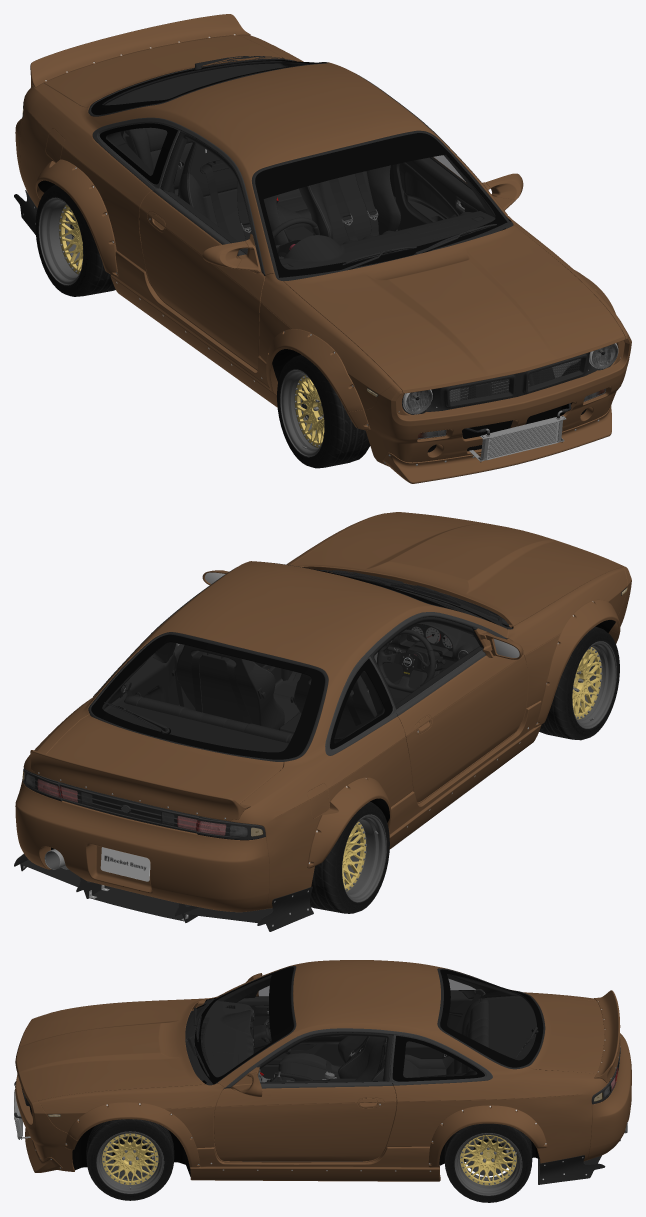
3 views of the same model, one above another, from view 1: azimuth 30°, elevation 25°; view 2: azimuth 150°, elevation 25°; view 3: azimuth 270°, elevation 25° (orthographic). The views are drawn at different scales.
Parts seen in each view (by area): view 1: RB:Paint_Geo_lodA_Paint_Geo_lodA_Nissan_240SXRocketBunnyBoss, RB:Window_Geo_lodA_Window_Geo_lodA_Nissan_240SXRocketBunnyBo (×3), RB:Interior_Geo_lodA_Interior_Geo_lodA_Nissan_240SXRocketBun, RB:Coloured_Geo_lodA_Coloured_Geo_lodA_Nissan_240SXRocketBun (×2), polySurface475_RB:Nissan_240SXRocketBunnyBossRewardRecycled_, polySurface1427_RB:Nissan_240SXRocketBunnyBossRewardRecycled, RB:Base_Geo_lodA_Base_Geo_lodA_Nissan_240SXRocketBunnyBossRe, RB:Grille5_Geo_lodA_Grille5_Geo_lodA_Nissan_240SXRocketBunny, RB:Light_Geo_lodA_Light_Geo_lodA_Nissan_240SXRocketBunnyBoss, RB:InteriorTilling_Geo_lodA_InteriorTilling_Geo_lodA_Nissan_, RB:Grille1_Geo_lodA_Grille1_Geo_lodA_Nissan_240SXRocketBunny, RB:SeatBelt_Geo_lodA_SeatBelt_Geo_lodA_Nissan_240SXRocketBun; view 2: RB:Paint_Geo_lodA_Paint_Geo_lodA_Nissan_240SXRocketBunnyBoss, RB:Window_Geo_lodA_Window_Geo_lodA_Nissan_240SXRocketBunnyBo (×3), RB:Coloured_Geo_lodA_Coloured_Geo_lodA_Nissan_240SXRocketBun (×2), RB:Interior_Geo_lodA_Interior_Geo_lodA_Nissan_240SXRocketBun, polySurface1427_RB:Nissan_240SXRocketBunnyBossRewardRecycled, polySurface475_RB:Nissan_240SXRocketBunnyBossRewardRecycled_, RB:Light_Geo_lodA_Light_Geo_lodA_Nissan_240SXRocketBunnyBoss, RB:ManufacturerPlate_Geo_lodA_ManufacturerPlate_Geo_lodA_Nis, RB:Base_Geo_lodA_Base_Geo_lodA_Nissan_240SXRocketBunnyBossRe; view 3: RB:Paint_Geo_lodA_Paint_Geo_lodA_Nissan_240SXRocketBunnyBoss, RB:Window_Geo_lodA_Window_Geo_lodA_Nissan_240SXRocketBunnyBo (×2), RB:Interior_Geo_lodA_Interior_Geo_lodA_Nissan_240SXRocketBun, RB:Coloured_Geo_lodA_Coloured_Geo_lodA_Nissan_240SXRocketBun (×2), polySurface1, polySurface949_RB:Nissan_240SXRocketBunnyBossRewardRecycled_, RB:Base_Geo_lodA_Base_Geo_lodA_Nissan_240SXRocketBunnyBossRe.
Boxes of the visible parts, x1,y1,x2,y2 form: RB:Paint_Geo_lodA_Paint_Geo_lodA_Nissan_240SXRocketBunnyBoss: (15,14,631,483); RB:Window_Geo_lodA_Window_Geo_lodA_Nissan_240SXRocketBunnyBo (×3): (102,60,617,439); RB:Interior_Geo_lodA_Interior_Geo_lodA_Nissan_240SXRocketBun: (105,63,495,275); RB:Coloured_Geo_lodA_Coloured_Geo_lodA_Nissan_240SXRocketBun (×2): (14,56,618,465); polySurface475_RB:Nissan_240SXRocketBunnyBossRewardRecycled_: (277,355,370,468); polySurface1427_RB:Nissan_240SXRocketBunnyBossRewardRecycled: (35,185,115,296); RB:Base_Geo_lodA_Base_Geo_lodA_Nissan_240SXRocketBunnyBossRe: (38,60,586,452); RB:Grille5_Geo_lodA_Grille5_Geo_lodA_Nissan_240SXRocketBunny: (449,358,581,402); RB:Light_Geo_lodA_Light_Geo_lodA_Nissan_240SXRocketBunnyBoss: (22,111,617,438); RB:InteriorTilling_Geo_lodA_InteriorTilling_Geo_lodA_Nissan_: (399,162,458,218); RB:Grille1_Geo_lodA_Grille1_Geo_lodA_Nissan_240SXRocketBunny: (460,379,556,458); RB:SeatBelt_Geo_lodA_SeatBelt_Geo_lodA_Nissan_240SXRocketBun: (201,164,251,248); RB:Paint_Geo_lodA_Paint_Geo_lodA_Nissan_240SXRocketBunnyBoss: (15,512,631,912); RB:Window_Geo_lodA_Window_Geo_lodA_Nissan_240SXRocketBunnyBo (×3): (25,578,487,836); RB:Coloured_Geo_lodA_Coloured_Geo_lodA_Nissan_240SXRocketBun (×2): (14,562,626,931); RB:Interior_Geo_lodA_Interior_Geo_lodA_Nissan_240SXRocketBun: (102,588,487,752); polySurface1427_RB:Nissan_240SXRocketBunnyBossRewardRecycled: (310,802,389,913); polySurface475_RB:Nissan_240SXRocketBunnyBossRewardRecycled_: (539,626,619,740); RB:Light_Geo_lodA_Light_Geo_lodA_Nissan_240SXRocketBunnyBoss: (22,588,627,836); RB:ManufacturerPlate_Geo_lodA_ManufacturerPlate_Geo_lodA_Nis: (100,847,150,881); RB:Base_Geo_lodA_Base_Geo_lodA_Nissan_240SXRocketBunnyBossRe: (25,586,615,849); RB:Paint_Geo_lodA_Paint_Geo_lodA_Nissan_240SXRocketBunnyBoss: (15,960,631,1181); RB:Window_Geo_lodA_Window_Geo_lodA_Nissan_240SXRocketBunnyBo (×2): (201,969,536,1083); RB:Interior_Geo_lodA_Interior_Geo_lodA_Nissan_240SXRocketBun: (200,974,536,1161); RB:Coloured_Geo_lodA_Coloured_Geo_lodA_Nissan_240SXRocketBun (×2): (14,966,627,1184); polySurface1: (86,1119,174,1200); polySurface949_RB:Nissan_240SXRocketBunnyBossRewardRecycled_: (444,1123,532,1202); RB:Base_Geo_lodA_Base_Geo_lodA_Nissan_240SXRocketBunnyBossRe: (72,973,608,1176).
Size of the model in its own units: 0.0199 by 0.0128 by 0.044.
23 materials, 15 textured.
